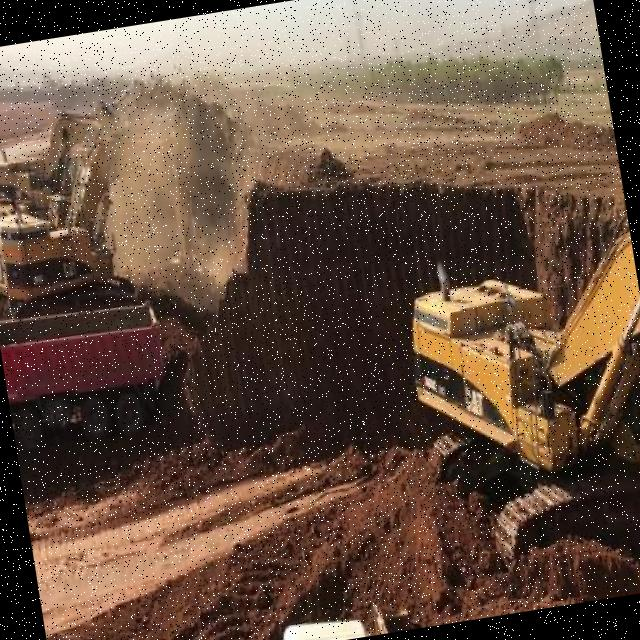Dump Truck: (0, 278, 178, 458)
Excavator: (388, 213, 640, 604), (0, 108, 222, 312), (0, 73, 161, 196)
